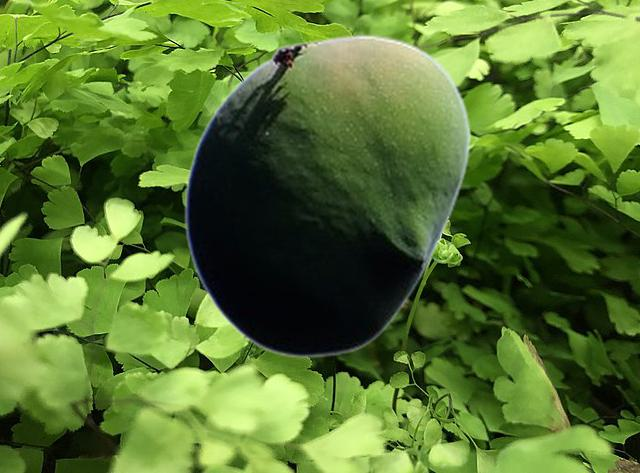green_mango: (183, 33, 471, 357)
